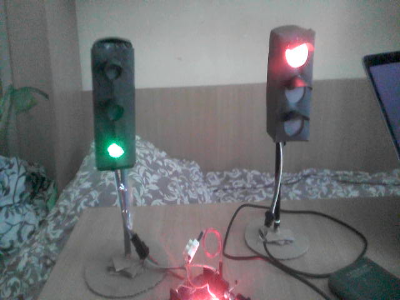trafficlight_green: (92, 43, 135, 166)
trafficlight_red: (275, 32, 313, 141)
